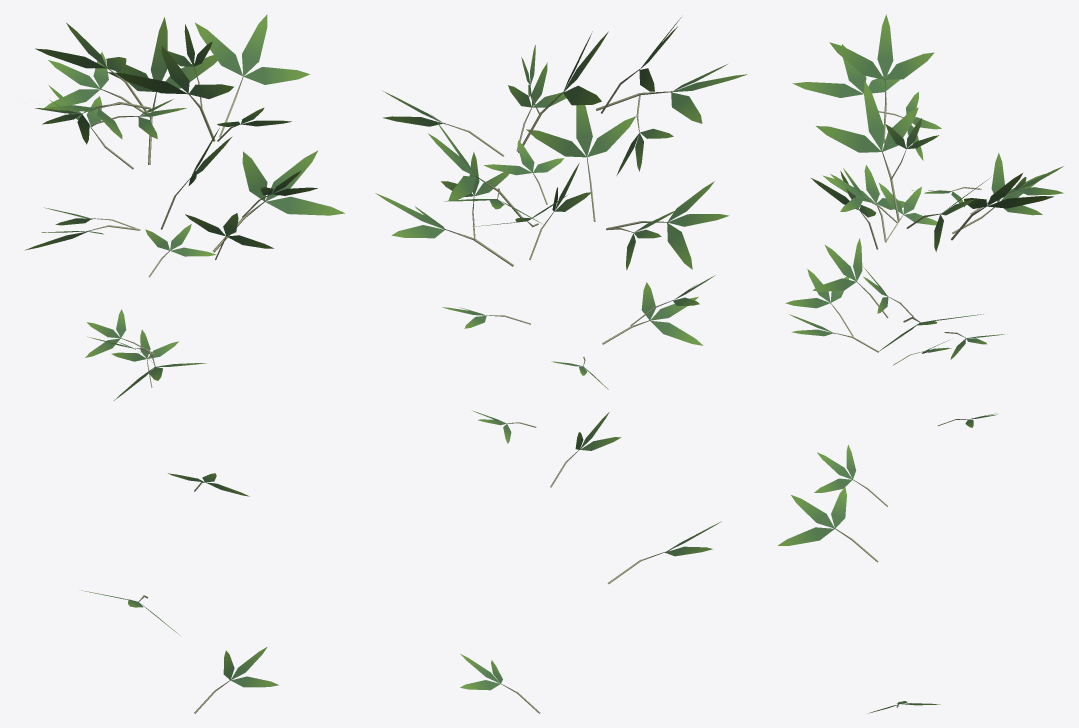
3 renders of one model, left to right at view 1: azimuth 30°, elevation 25°; view 2: azimuth 150°, elevation 25°; view 3: azimuth 270°, elevation 25°, orthographic. The views are drawn at different scales.
Parts seen in each view (by area): view 1: plant.002; view 2: plant.002; view 3: plant.002.
Boxes of the visible parts, left/top/right/bottom form: plant.002: left=25, top=14, right=344, bottom=713; plant.002: left=375, top=17, right=747, bottom=713; plant.002: left=778, top=14, right=1063, bottom=713.
Bounding box in the file's own units: 0.2349 × 0.5 × 0.2047.
